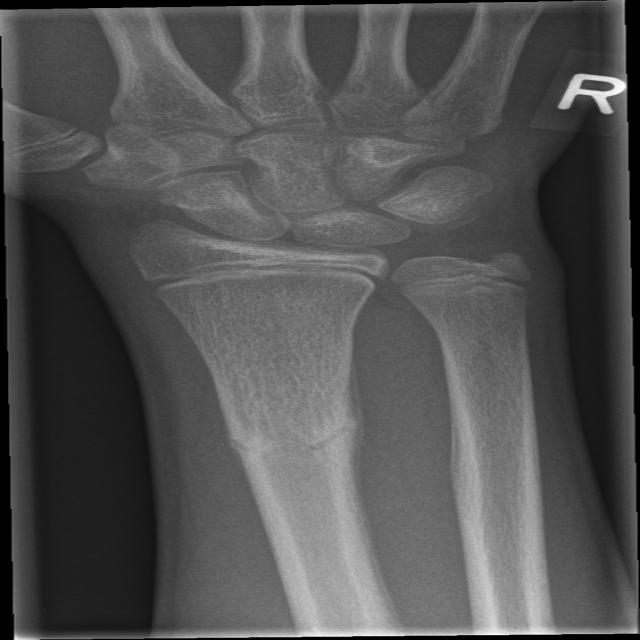radius fracture: (190, 411, 408, 496)
